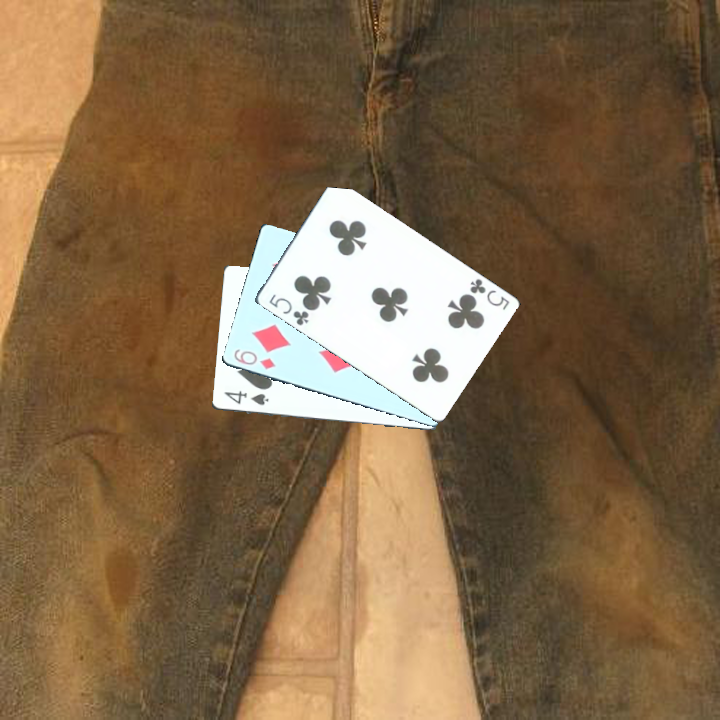4s: (221, 387, 271, 408)
5c: (265, 290, 311, 328), (466, 275, 512, 313)
6d: (230, 345, 278, 372)
